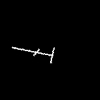double_crochet: (12, 47, 53, 62)
